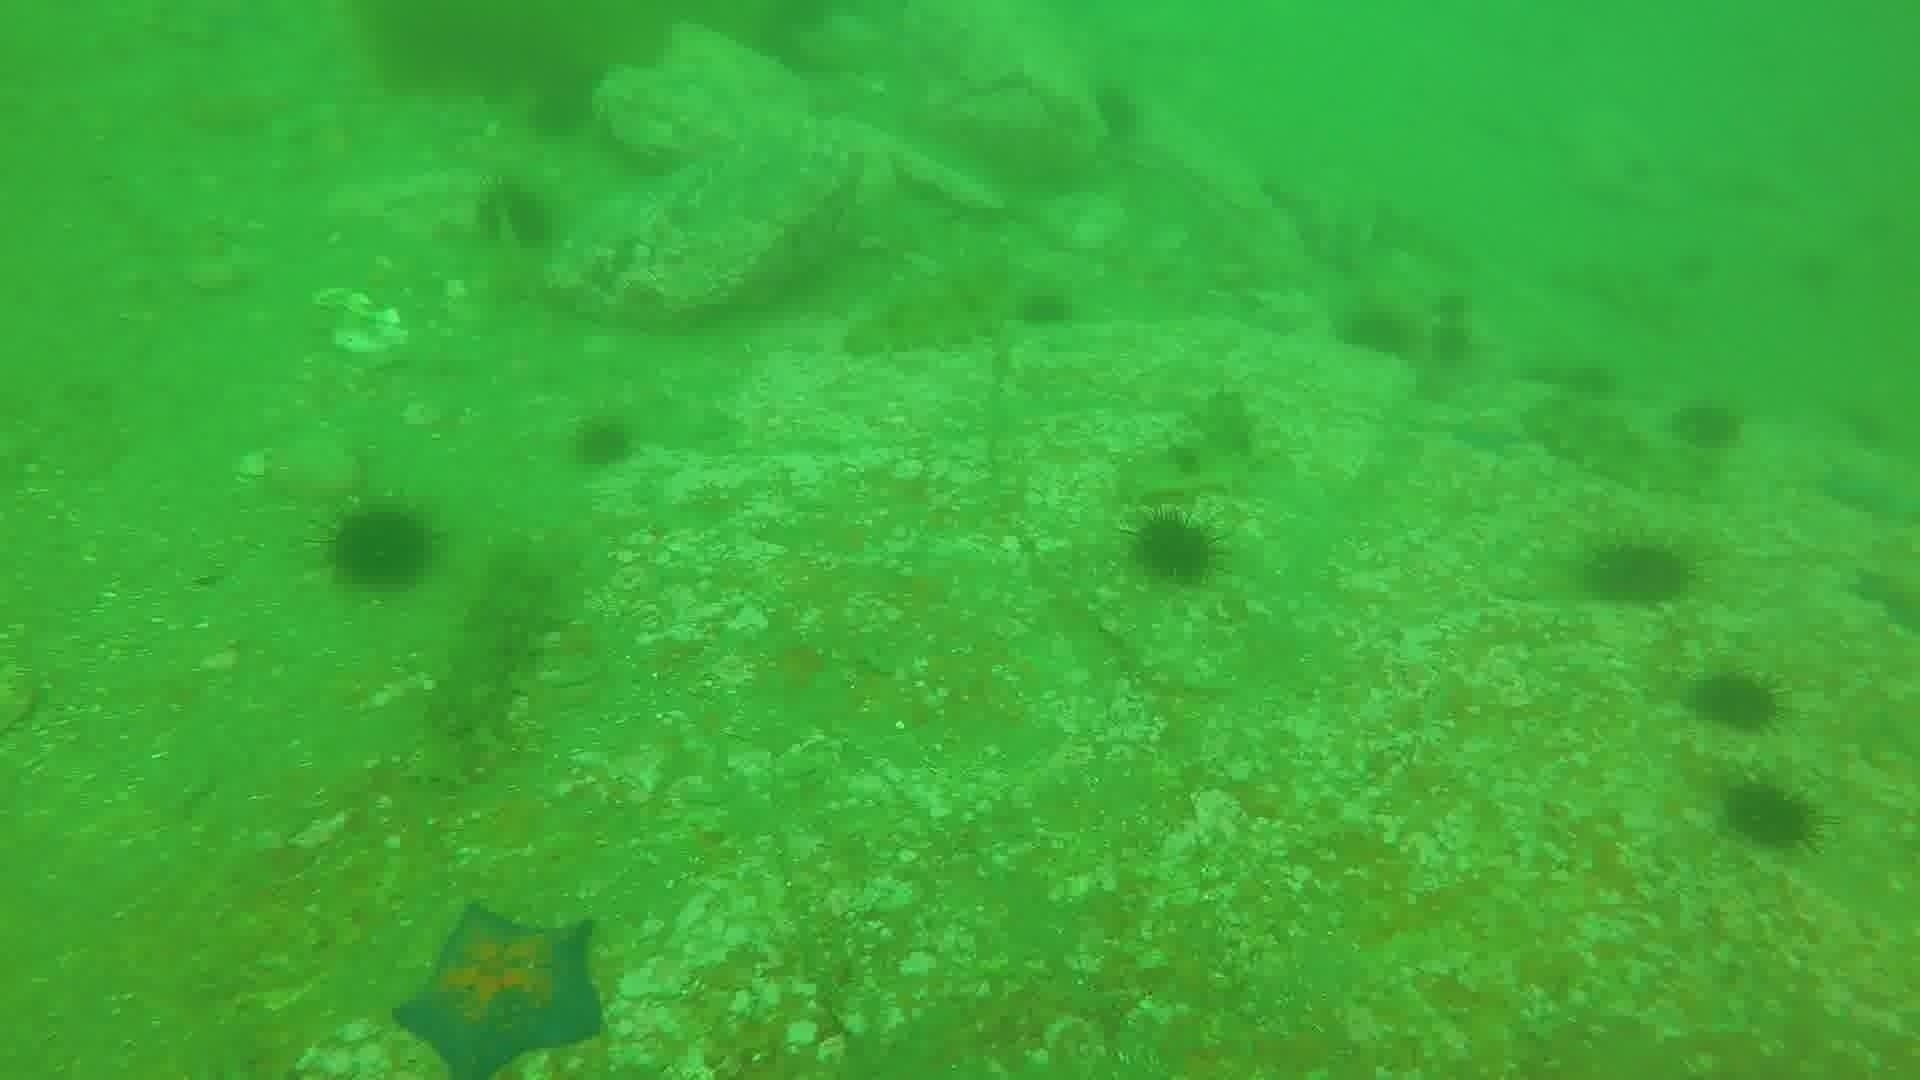echinus: (322, 500, 439, 597), (1577, 531, 1696, 615), (1717, 775, 1825, 858), (1125, 506, 1226, 591), (1685, 665, 1785, 738), (471, 177, 560, 255), (1335, 301, 1418, 365), (521, 73, 597, 142), (1669, 394, 1749, 456), (566, 411, 641, 473), (1088, 78, 1149, 146), (1011, 280, 1077, 334), (1424, 320, 1480, 371), (1663, 237, 1718, 287), (1431, 278, 1486, 327), (1618, 148, 1673, 196), (1568, 351, 1623, 400), (1797, 243, 1851, 291), (1513, 349, 1567, 398)
holothurian: (407, 547, 564, 790), (837, 257, 1071, 364), (1523, 392, 1706, 498), (1122, 385, 1265, 513)
starfish: (390, 899, 611, 1076), (1813, 447, 1917, 527), (1846, 562, 1920, 640), (1440, 404, 1532, 460)
